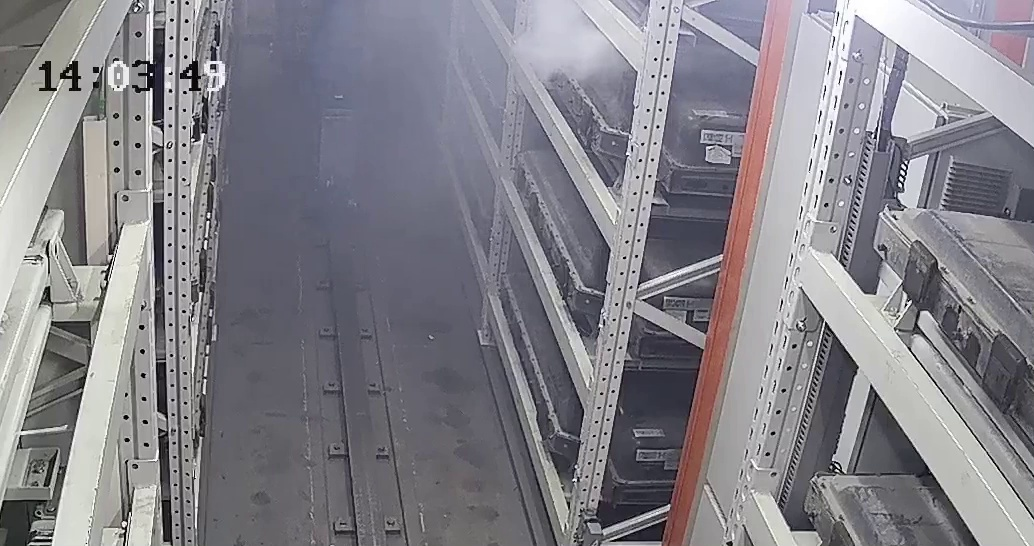smoke: (512, 6, 611, 92)
